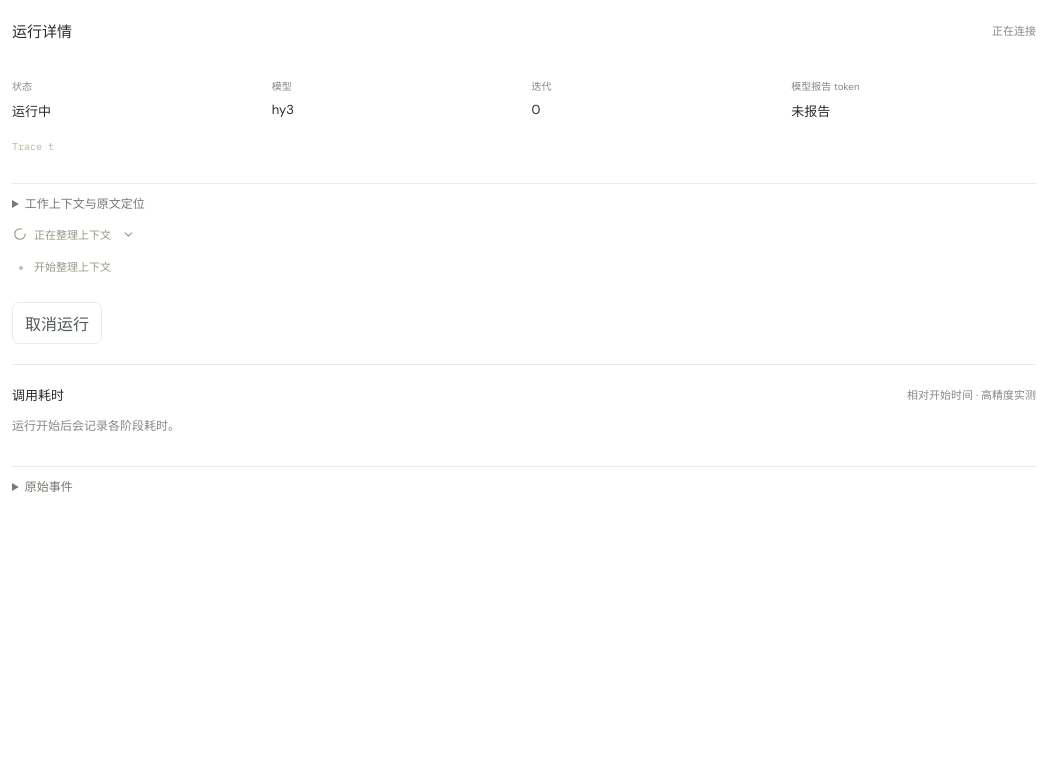
Test: compaction progress streams and working summaries load only on demand
The image size is (1048, 768).
Expected: the text "正在整理上下文" is shown, left=34, top=226, right=111, bottom=242
Click the heading "工作上下文与原文定位". click: x=85, y=204
box: left=25, top=196, right=145, bottom=212
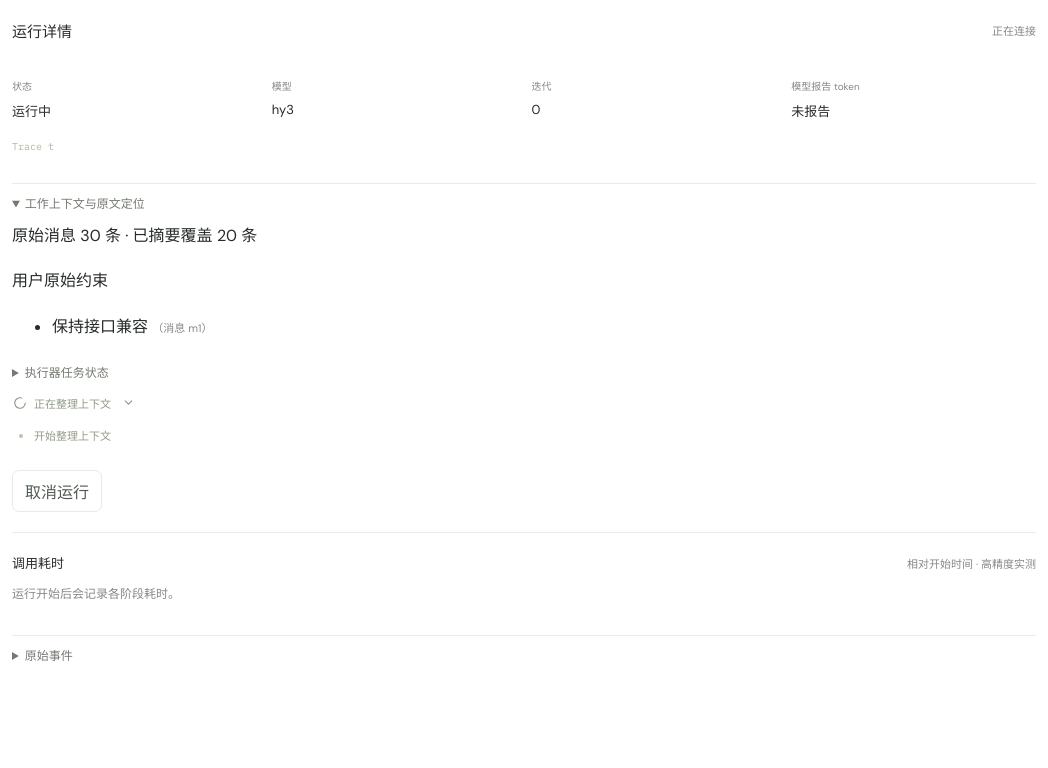
Result: the list item "保持接口兼容" is shown at left=52, top=316, right=148, bottom=336
Result: the text "原始消息 30 条 · 已摘要覆盖 20 条" is shown at left=12, top=225, right=257, bottom=246
